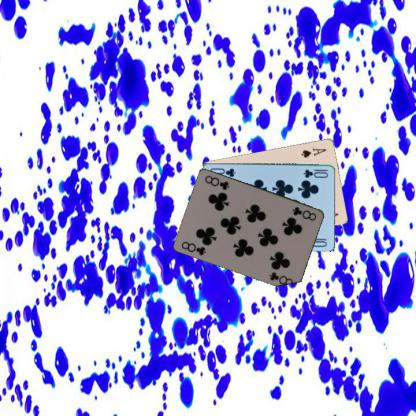10c: (301, 167, 329, 179)
8c: (179, 238, 208, 257), (290, 204, 318, 222)
As: (298, 145, 328, 159)
